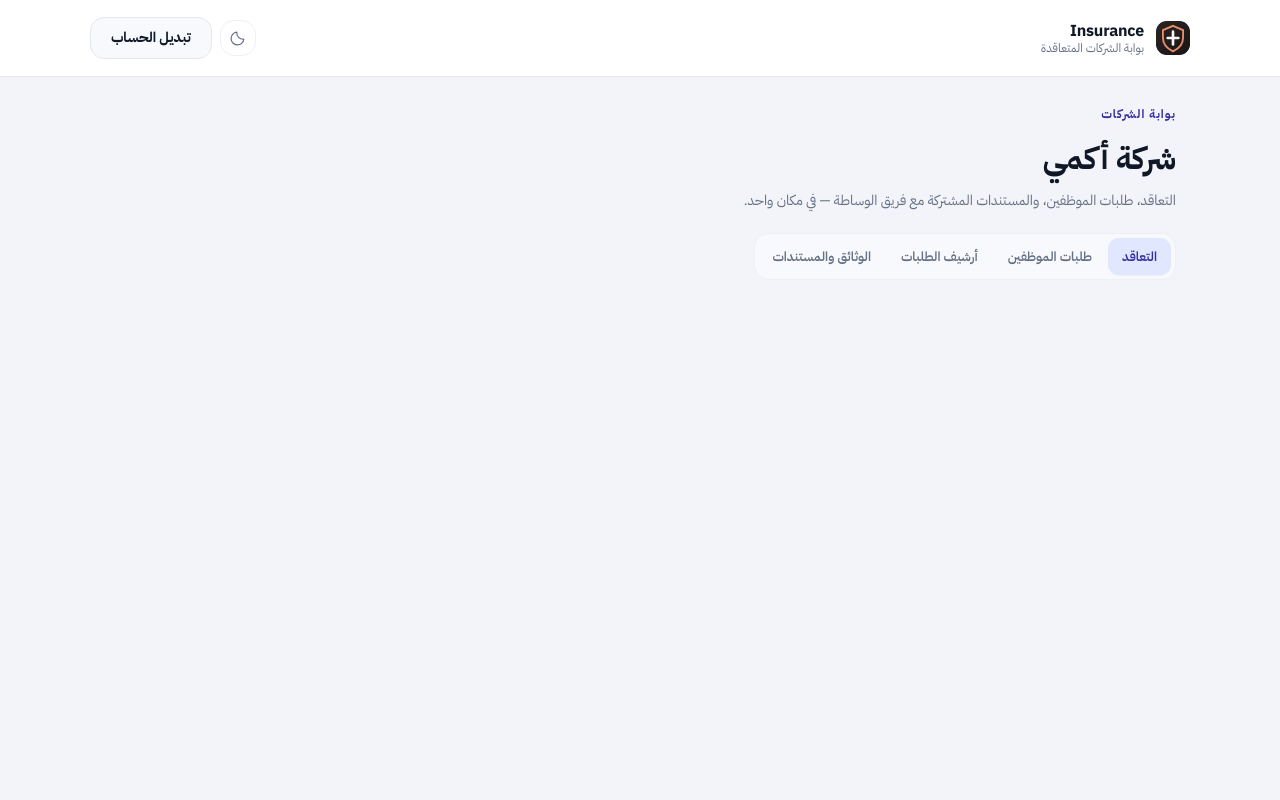
Test: corporate portal › lists employees and filters them by name
This screenshot has width=1280, height=800.
Expected: the heading "شركة أكمي" is shown, [1043,135,1176,182]
Click the button "طلبات الموظفين" at {"x": 1050, "y": 256}, box [994,238,1106,275]
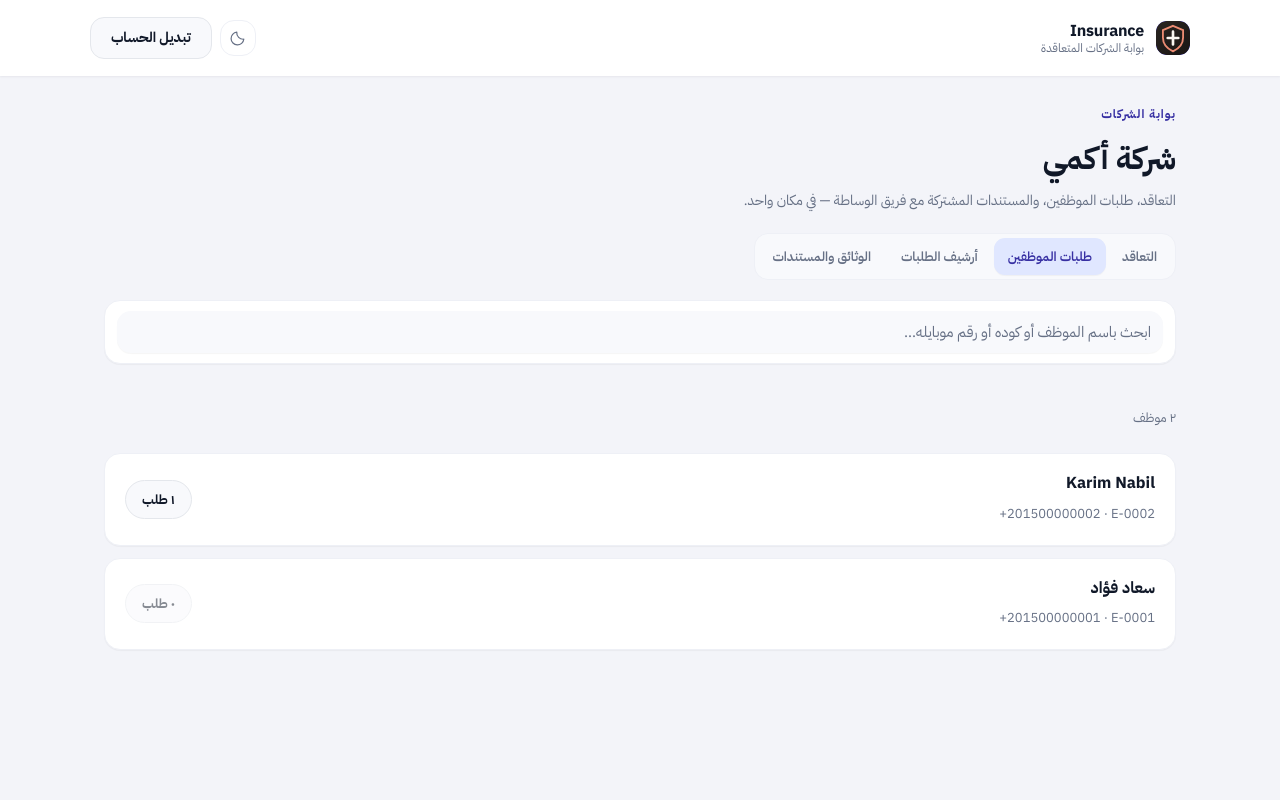
Result: the heading "Karim Nabil" is shown at [1066,471,1155,495]
Result: the heading "سعاد فؤاد" is shown at [1091,576,1155,600]
Type "سعاد" into the search field labelled "بحث باسم الموظف" at {"x": 640, "y": 332}, box [117,311,1163,353]
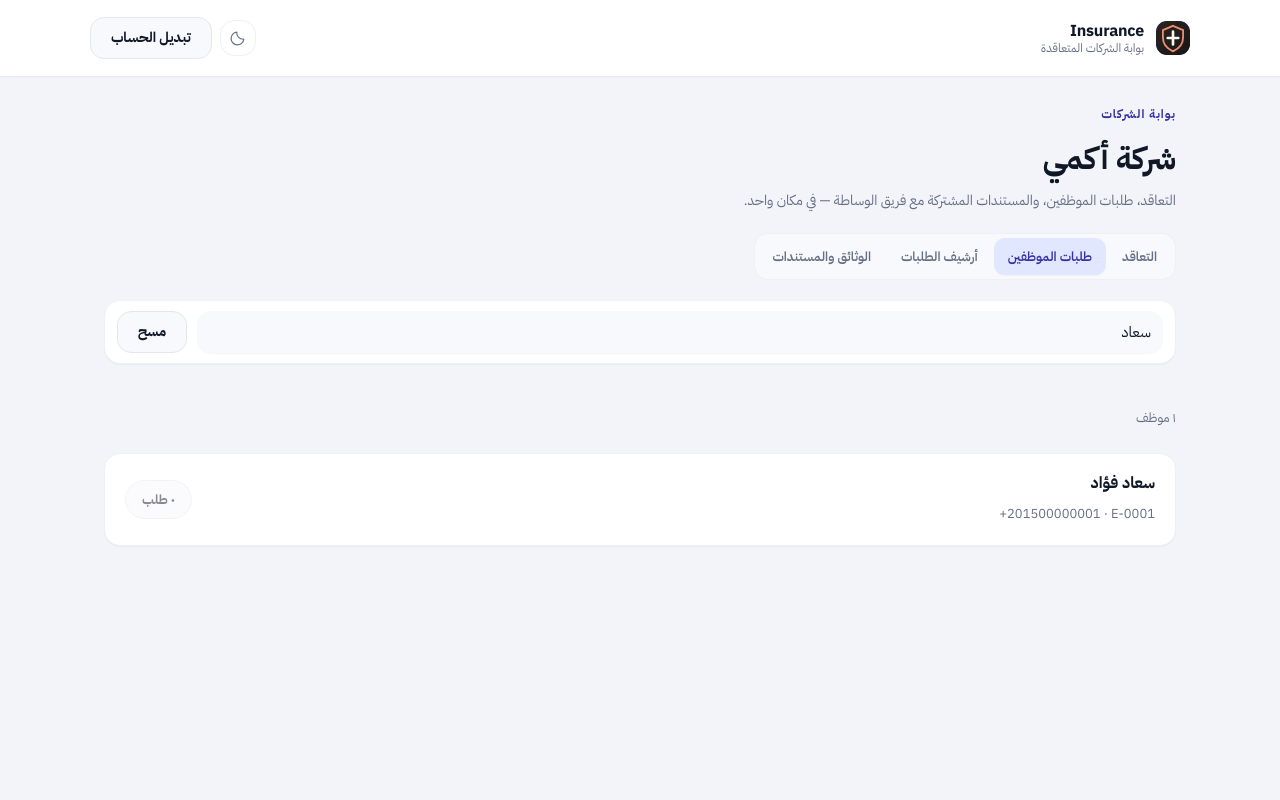
Result: the heading "سعاد فؤاد" is shown at [1091,471,1155,495]
Result: the heading "Karim Nabil" is gone
